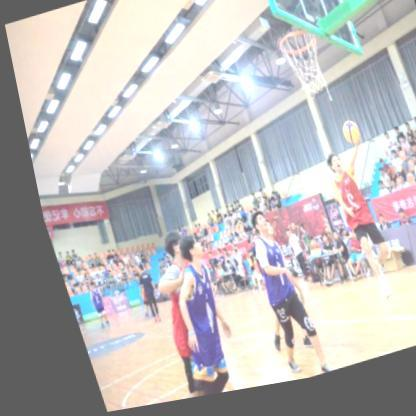basketball: (332, 129, 354, 155)
rim: (272, 34, 327, 113)
